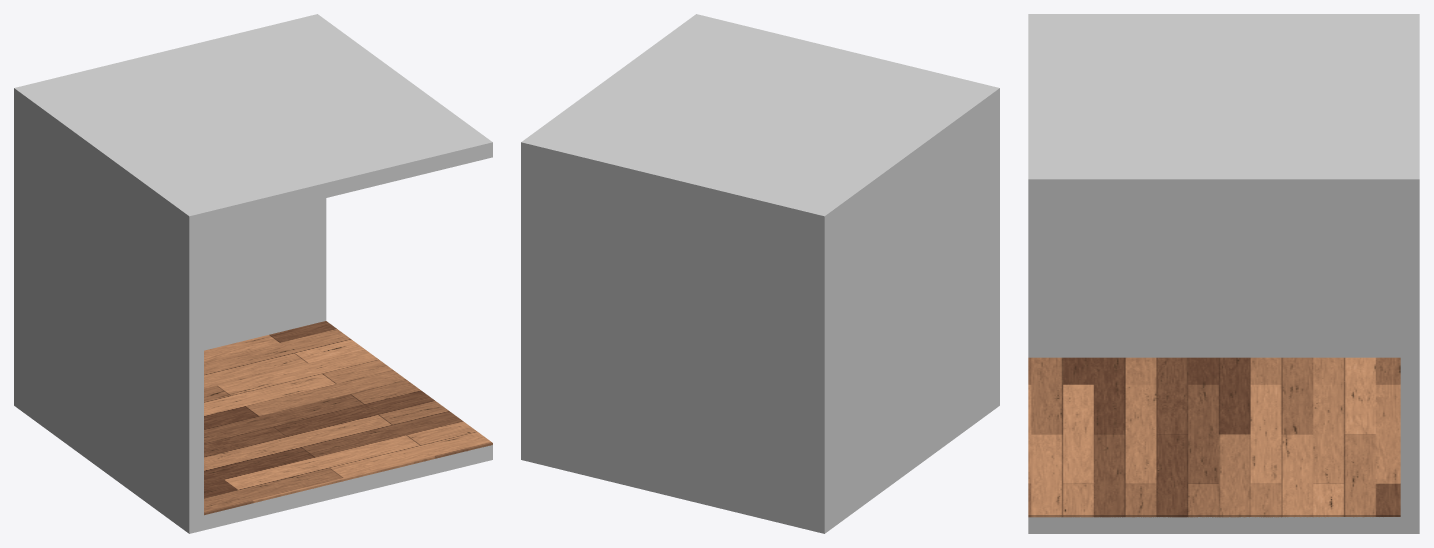
Rendered from LastStopBrewing.glb.
The picture shows the model from 3 angles, left to right: view 1: azimuth 30°, elevation 25°; view 2: azimuth 150°, elevation 25°; view 3: azimuth 270°, elevation 25°; orthographic projection. The views are drawn at different scales.
Parts seen in each view (by area): view 1: Building, Floor; view 2: Building; view 3: Building, Floor.
Part boxes in pixels (x1,y1,x2,y2): Building: [14, 14, 492, 533]; Floor: [204, 321, 492, 515]; Building: [521, 14, 999, 533]; Building: [1028, 14, 1419, 533]; Floor: [1028, 357, 1400, 517].
Bounding box in the file's own units: 2.55 × 2.55 × 2.55.
Materials: 1 (1 with a texture image).
